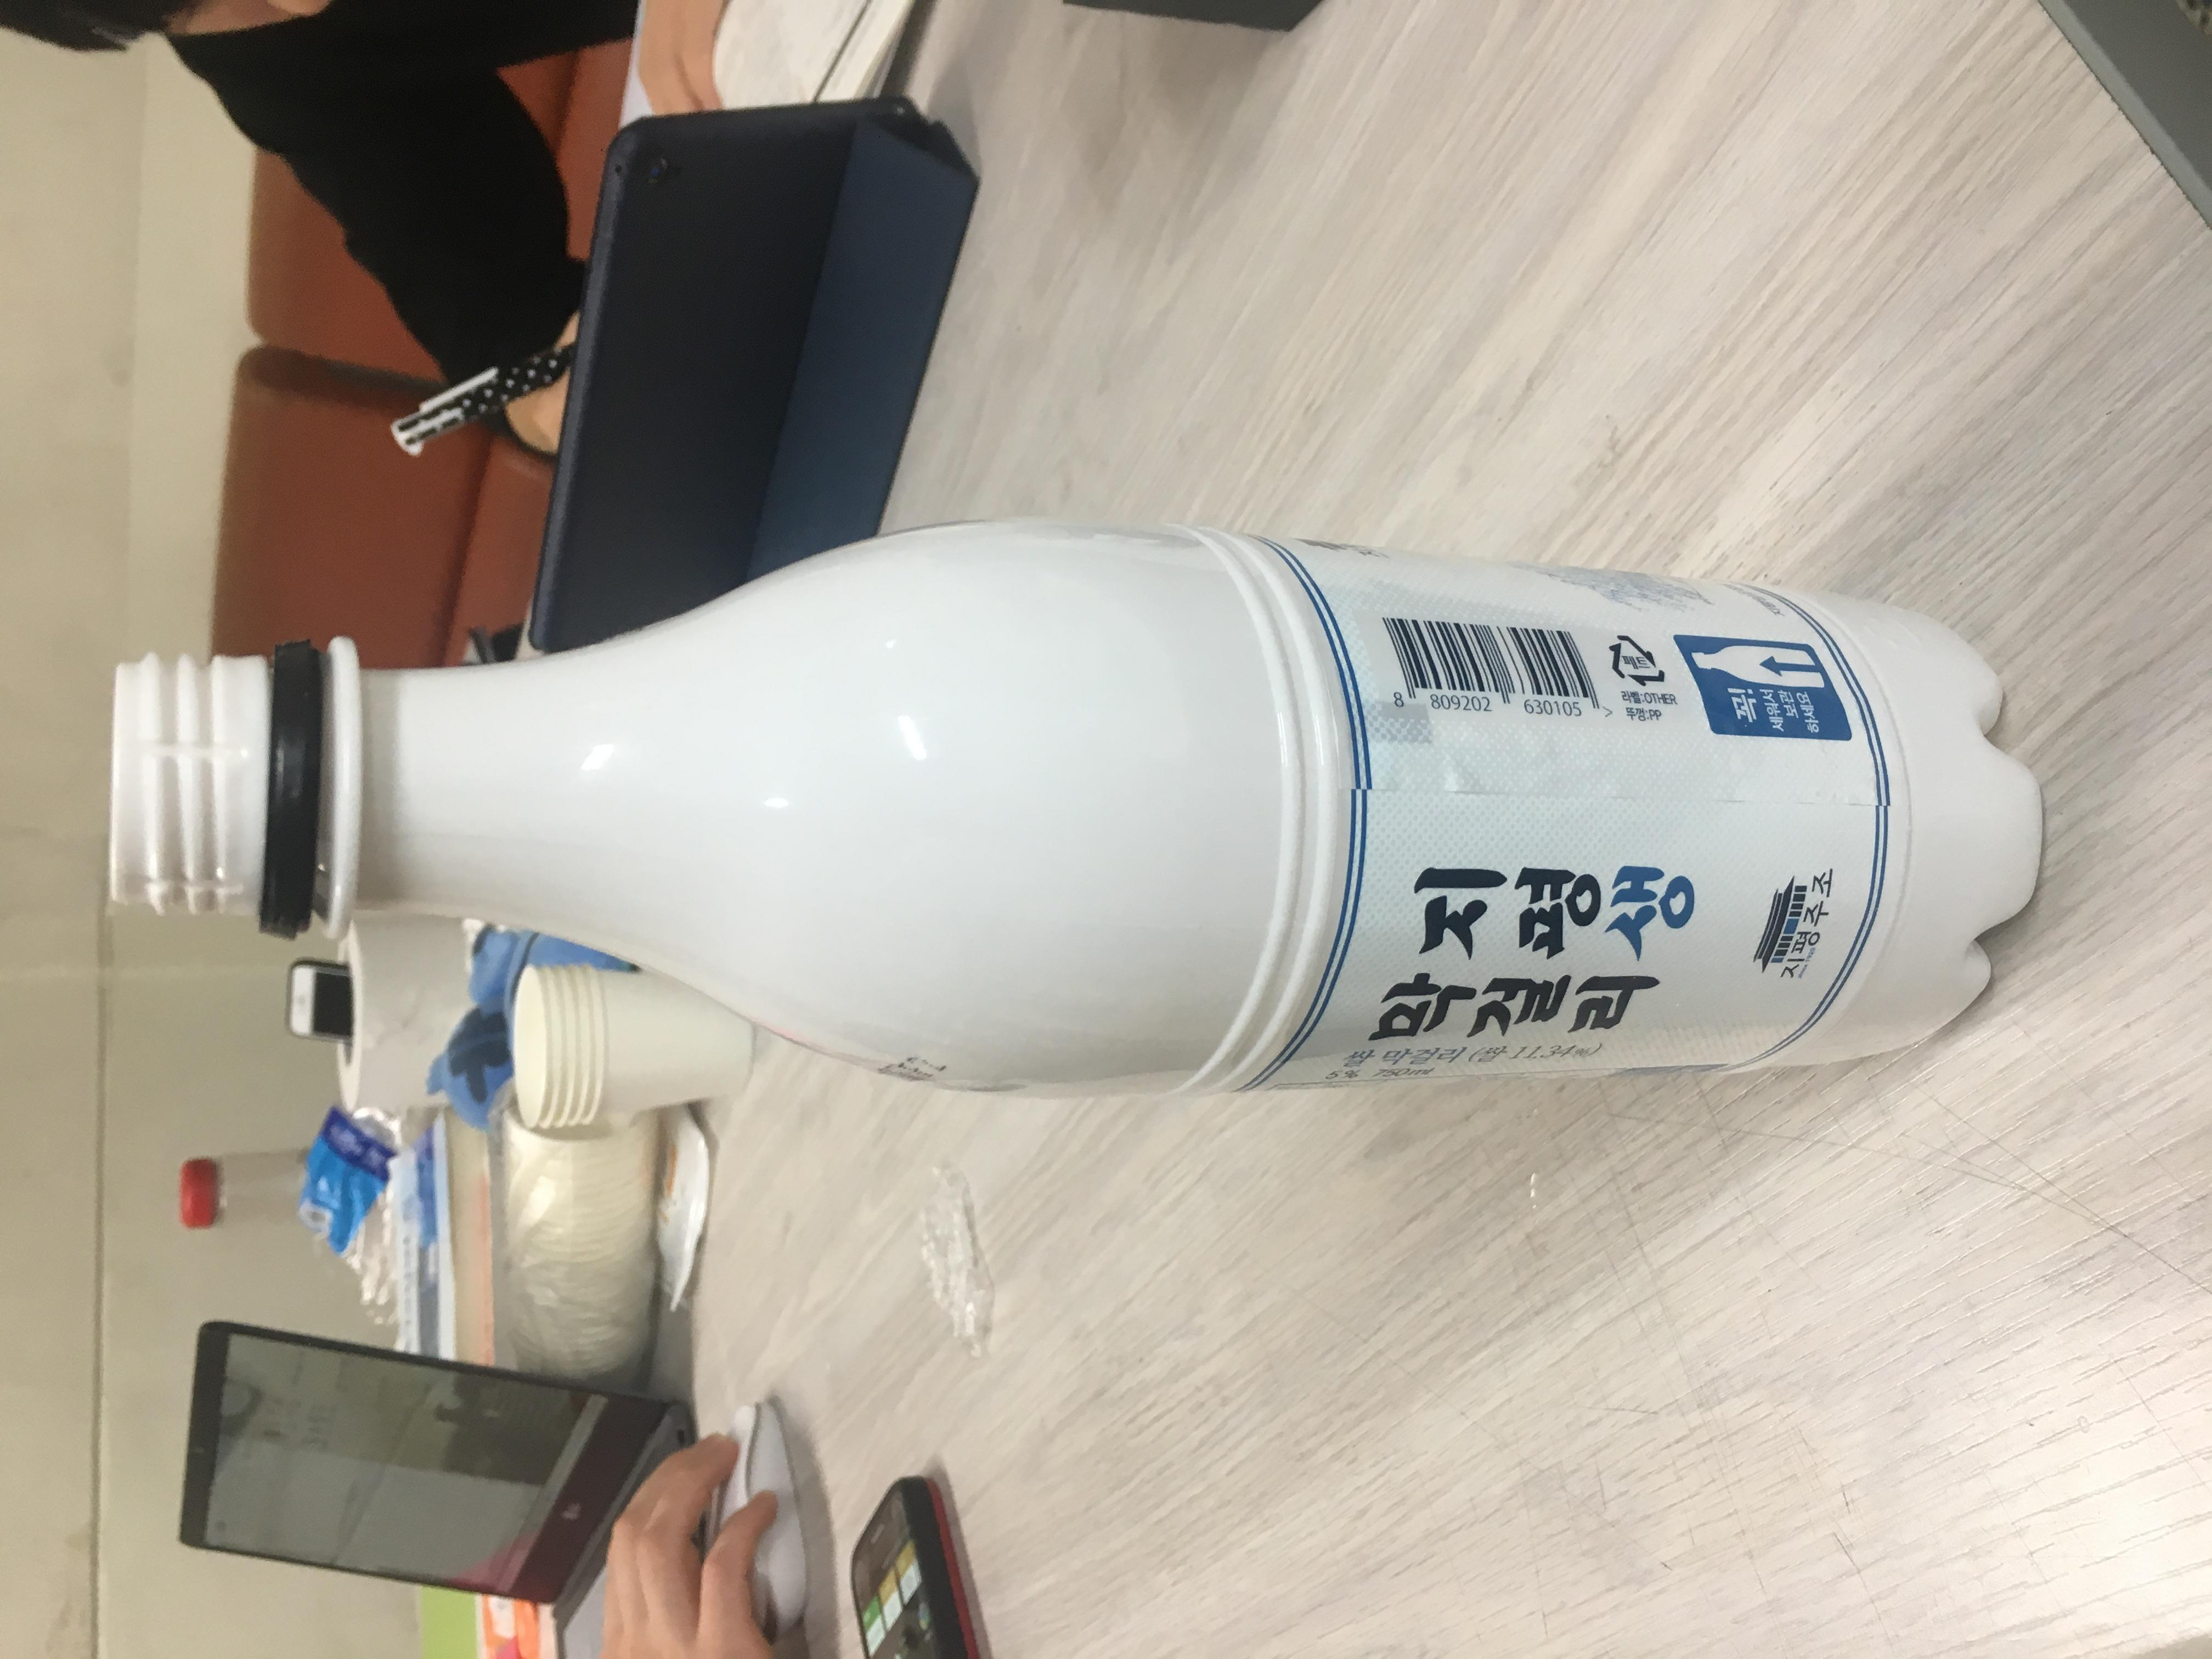bottle: (651, 748, 1519, 880)
